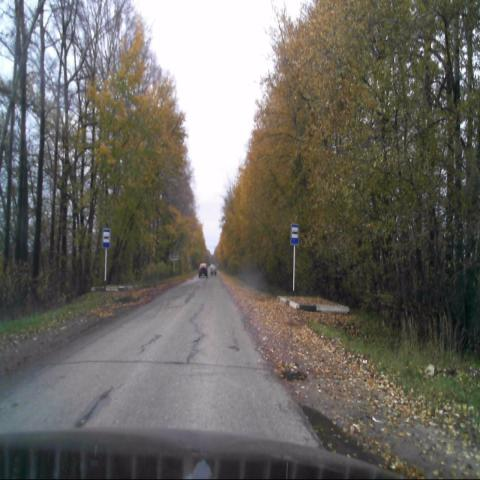5_16: (291, 224, 299, 245), (102, 230, 110, 248)
